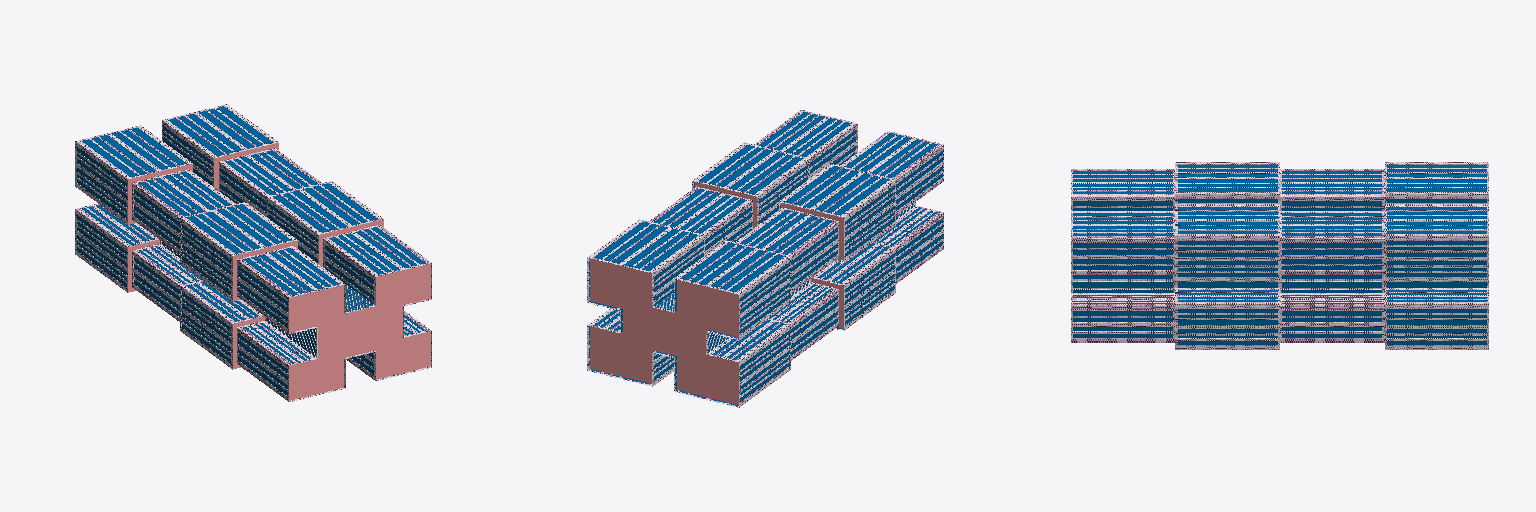
3 renders of one model, left to right at view 1: azimuth 30°, elevation 25°; view 2: azimuth 150°, elevation 25°; view 3: azimuth 270°, elevation 25°, orthographic.
Parts seen in each view (by area): view 1: glass_01, wall_02, SLAB_01, wall_01; view 2: glass_01, wall_02, SLAB_01, wall_01; view 3: glass_01, wall_02, wall_01.
Part boxes in pixels (x1,y1,x2,y2): glass_01: (77, 106, 424, 395); wall_02: (77, 105, 429, 400); SLAB_01: (128, 143, 430, 400); wall_01: (75, 104, 431, 401); glass_01: (589, 112, 942, 405); wall_02: (589, 111, 942, 406); SLAB_01: (590, 112, 934, 404); wall_01: (587, 110, 943, 407); glass_01: (1073, 165, 1486, 344); wall_02: (1073, 162, 1486, 349); wall_01: (1071, 162, 1488, 349).
Bounding box in the file's own units: 8424 × 6024 × 20160.
5 materials, 1 textured.